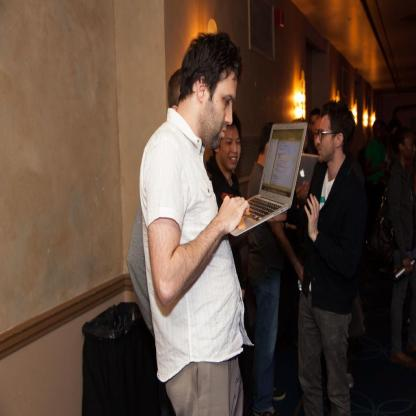board: (226, 123, 309, 236), (294, 152, 319, 191)
